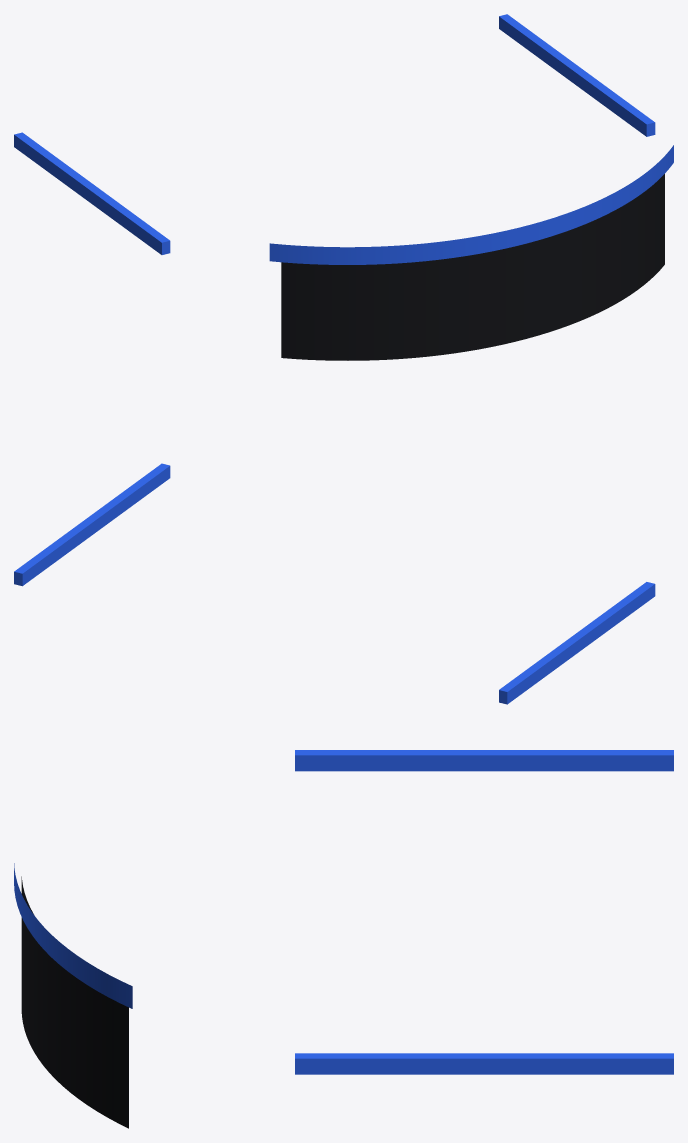
The model's file is glasses_shield_female.glb.
The picture shows the model from 3 angles, top to bottom: view 1: azimuth 30°, elevation 25°; view 2: azimuth 150°, elevation 25°; view 3: azimuth 270°, elevation 25°; orthographic projection. The views are drawn at different scales.
Visible parts, largest first — view 1: lens, frame, arm (×2); view 2: arm (×2); view 3: arm (×2), lens, frame.
Boxes of the visible parts, <box> form: lens: <box>281,174,664,360</box>; frame: <box>269,145,673,264</box>; arm (×2): <box>14,14,655,254</box>; arm (×2): <box>14,463,655,704</box>; arm (×2): <box>295,750,673,1074</box>; lens: <box>21,876,128,1128</box>; frame: <box>14,863,132,1008</box>.
Size of the model in its own units: 0.289 by 0.065 by 0.2611.
